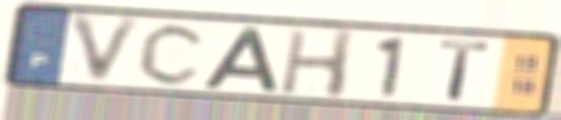1: (371, 36, 412, 99)
A: (199, 25, 281, 93)
C: (135, 21, 211, 87)
H: (276, 27, 359, 100)
T: (436, 38, 493, 104)
V: (66, 11, 149, 89)
